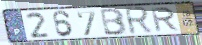2: (24, 11, 51, 39)
6: (51, 10, 74, 39)
7: (76, 9, 98, 37)
B: (99, 7, 129, 37)
R: (122, 5, 154, 37), (150, 6, 181, 34)
